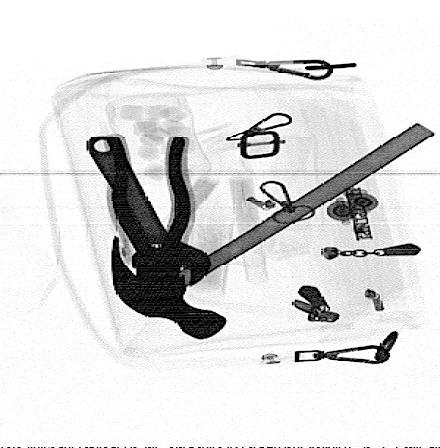Hammer: (113, 120, 439, 340)
Pliers: (105, 133, 199, 309)
Wrench: (87, 136, 211, 289)
